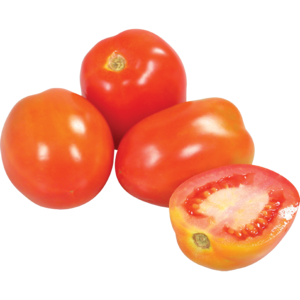tomato: (167, 165, 300, 269)
